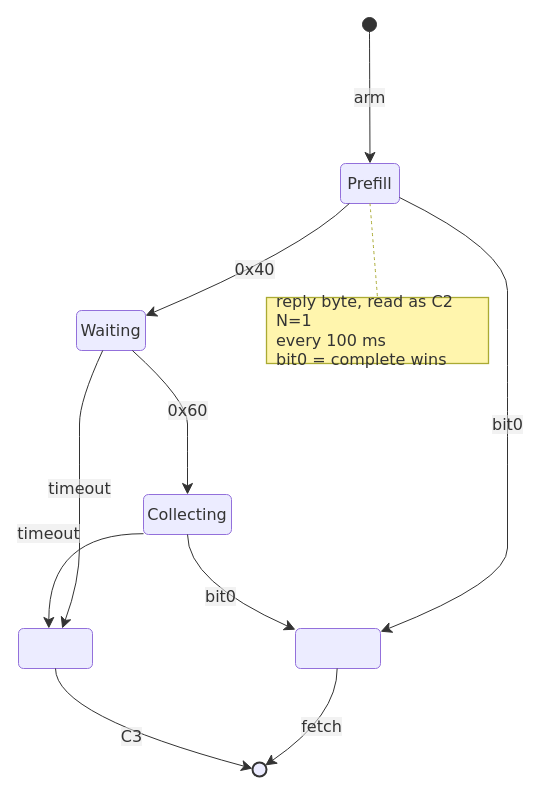
The diagram is 540 pixels wide and 795 high, and some of its shapes have lost their labels. The shapes that lost their labels are listed below. From the top down, each one's centre as x and y in pixels, then its label:
At point 55,648: "Stopped".
At point 337,648: "Complete".
